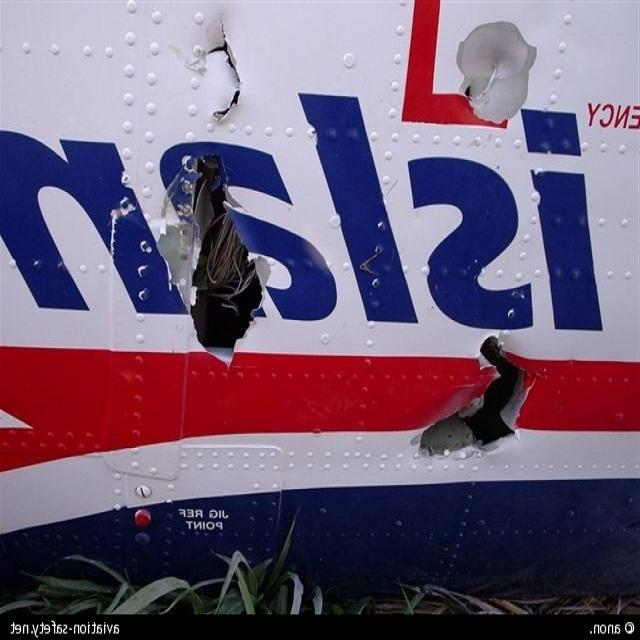crack: (174, 151, 270, 380), (409, 337, 540, 470), (195, 8, 251, 136), (457, 72, 499, 103)
